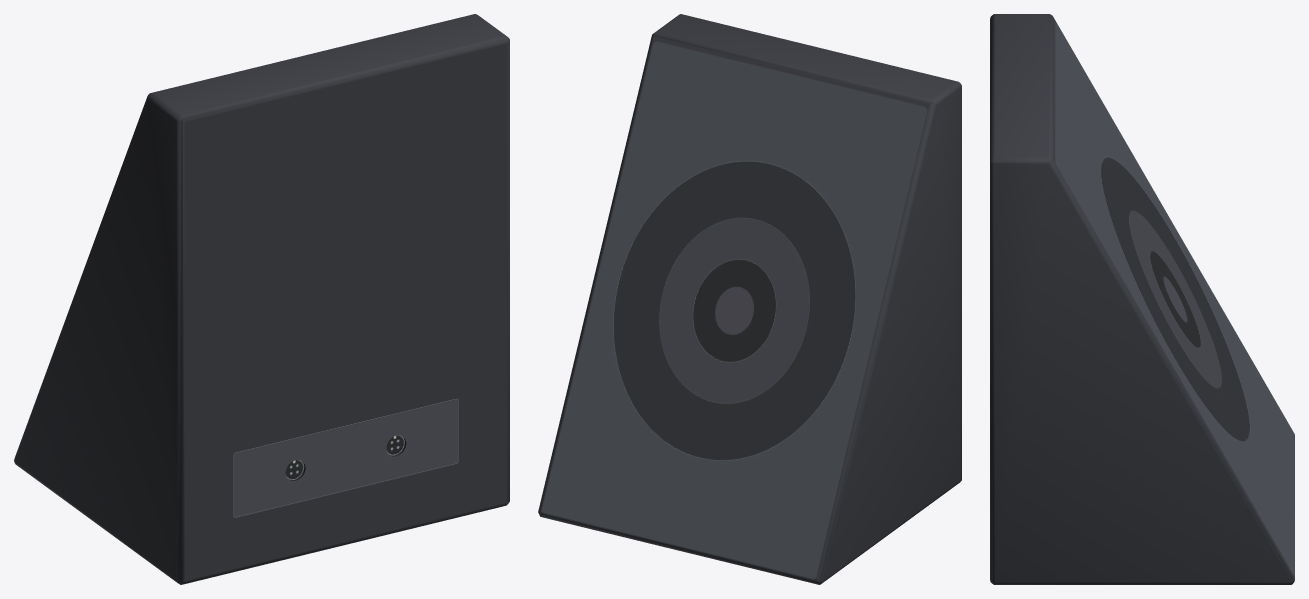
File: l-acoustics-x15-hiq.glb
3 renders of one model, left to right at view 1: azimuth 30°, elevation 25°; view 2: azimuth 150°, elevation 25°; view 3: azimuth 270°, elevation 25°, orthographic. The views are drawn at different scales.
Visible parts, largest first — view 1: l-acoustics-x15-hiq-body; view 2: l-acoustics-x15-hiq-body; view 3: l-acoustics-x15-hiq-body.
Part boxes in pixels (x1,y1,x2,y2): l-acoustics-x15-hiq-body: (14, 14, 509, 584); l-acoustics-x15-hiq-body: (538, 14, 961, 584); l-acoustics-x15-hiq-body: (990, 14, 1294, 584).
Bounding box in the file's own units: 0.43 × 0.58 × 0.375.
Materials: 1 (1 with a texture image).
